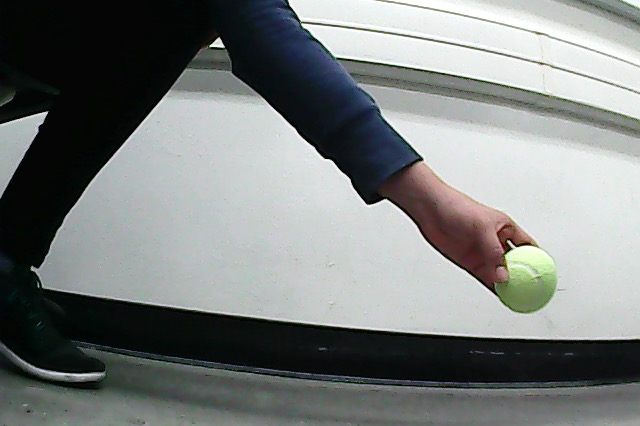ball: (489, 242, 562, 316)
